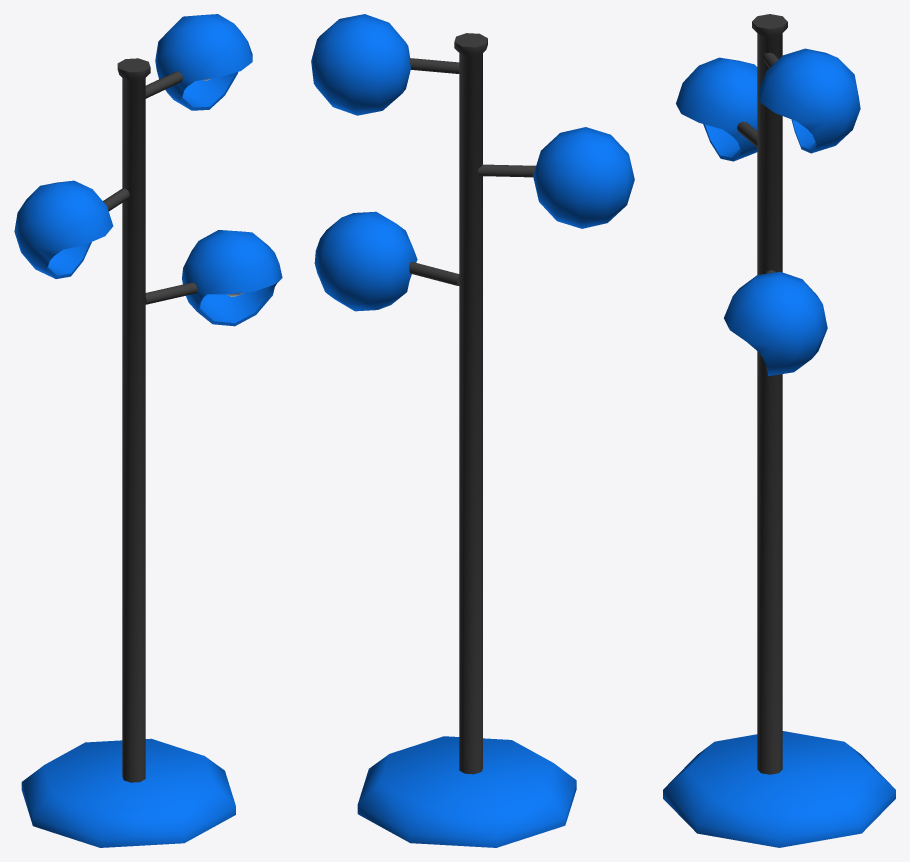
Rendered from Floor_Lamp_05.FBX.
3 views of the same model, side by side, from view 1: azimuth 30°, elevation 25°; view 2: azimuth 150°, elevation 25°; view 3: azimuth 270°, elevation 25° (orthographic). The views are drawn at different scales.
Parts seen in each view (by area): view 1: Floor_Lamp; view 2: Floor_Lamp; view 3: Floor_Lamp.
Boxes of the visible parts, box(x1,y1,x2,y2) form: Floor_Lamp: box(14, 14, 282, 847); Floor_Lamp: box(311, 14, 634, 847); Floor_Lamp: box(663, 14, 895, 847).
Bounding box in the file's own units: 106 × 275 × 73.35.
